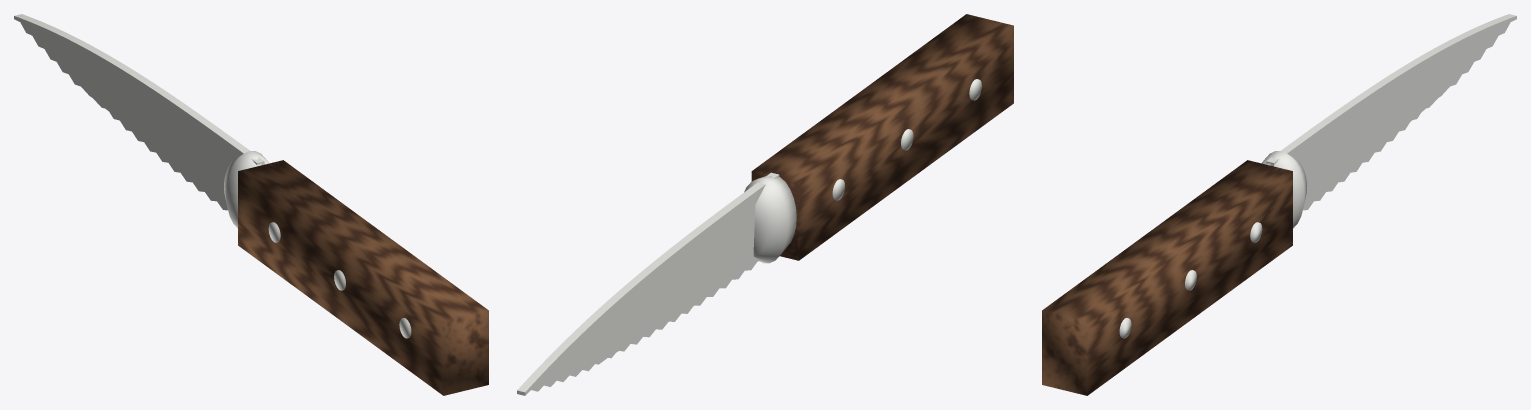
The model's file is Weapon_Knife.glb.
3 renders of one model, left to right at view 1: azimuth 30°, elevation 25°; view 2: azimuth 150°, elevation 25°; view 3: azimuth 330°, elevation 25°, orthographic. The views are drawn at different scales.
Parts seen in each view (by area): view 1: Weapon_Knife_Game; view 2: Weapon_Knife_Game; view 3: Weapon_Knife_Game.
Boxes of the visible parts, x1,y1,x2,y2 form: Weapon_Knife_Game: (14, 14, 488, 395); Weapon_Knife_Game: (517, 14, 1013, 395); Weapon_Knife_Game: (1042, 14, 1516, 395).
Size of the model in its own units: 0.015 by 0.0239 by 0.24.
Materials: 1 (1 with a texture image).
